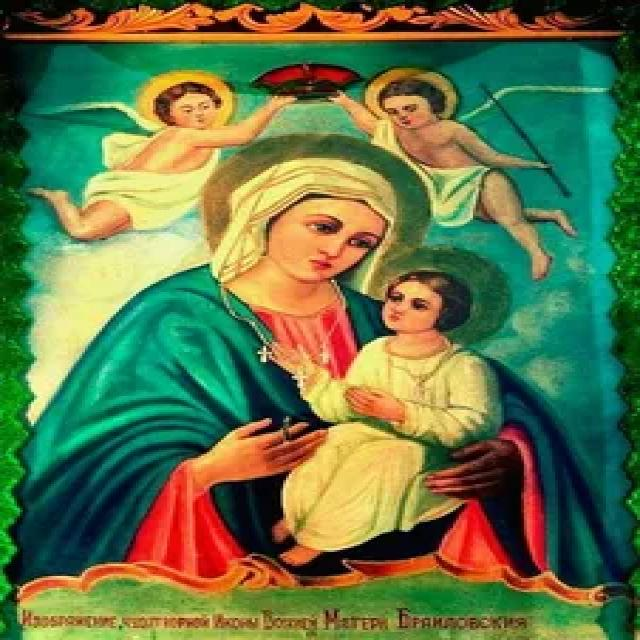mother of god: (18, 146, 622, 585)
